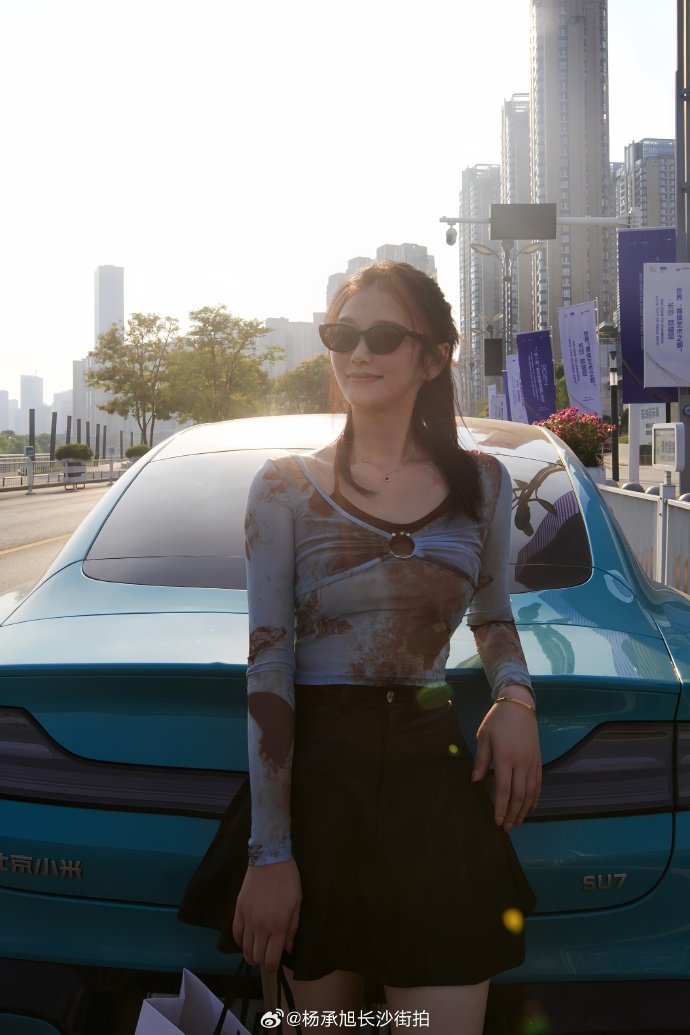su7: (2, 400, 690, 1020)
